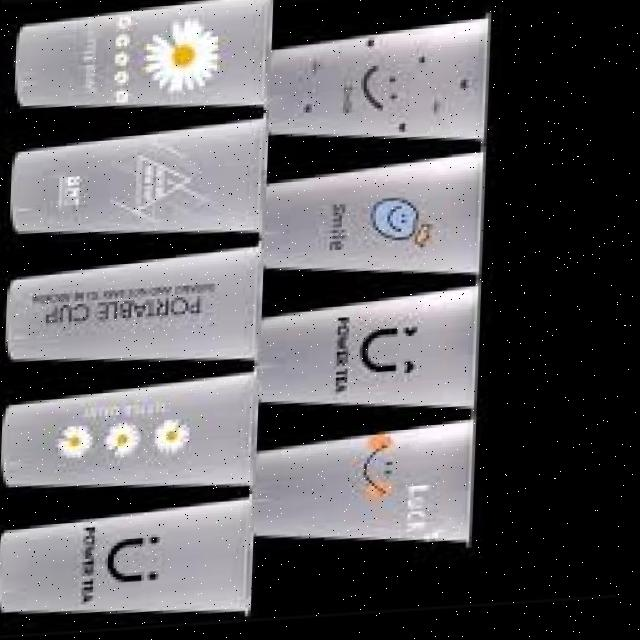cup: (244, 136, 524, 311), (251, 4, 520, 168), (242, 277, 507, 442), (244, 415, 491, 573)
